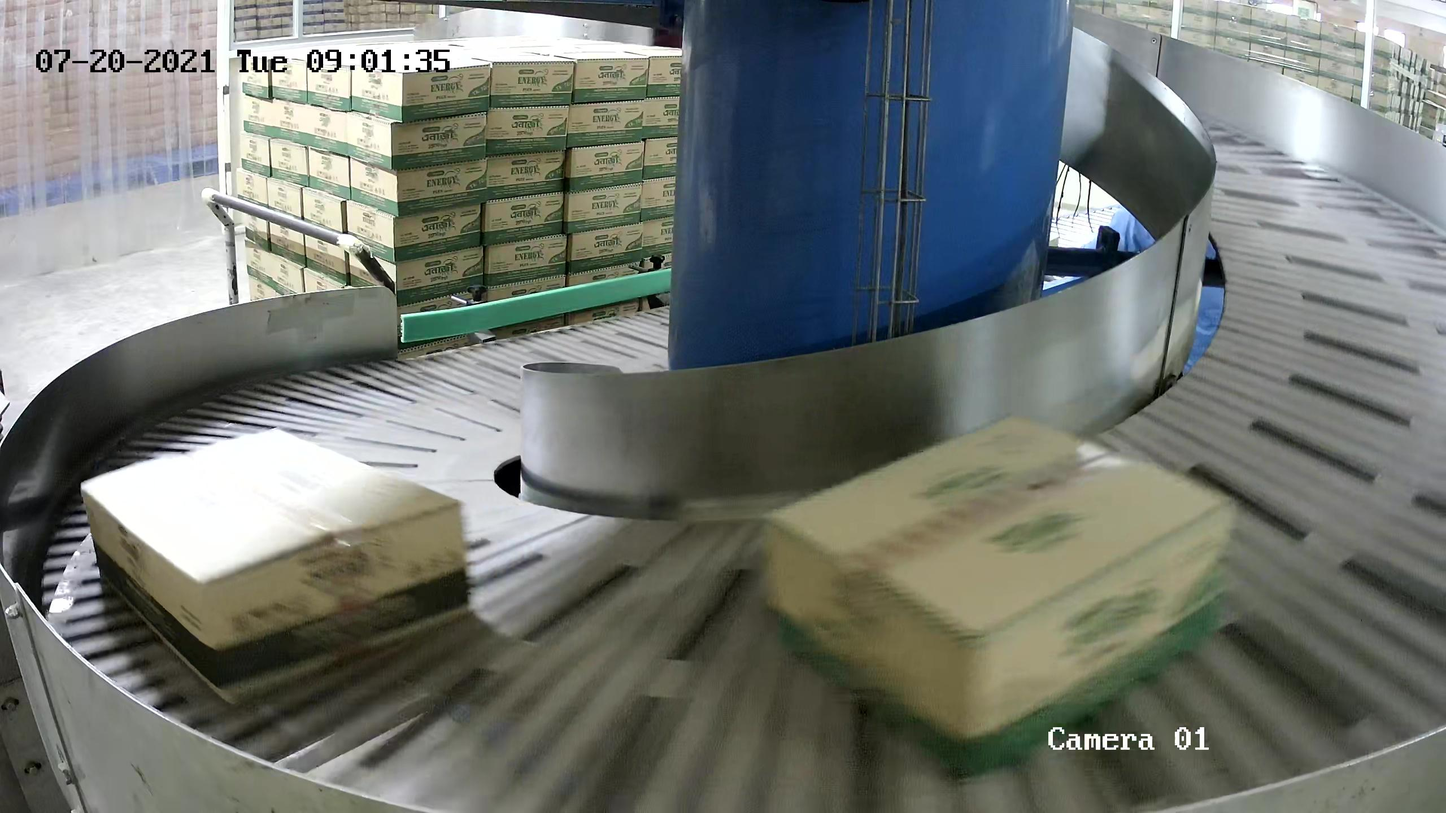Box: (757, 411, 1238, 782), (79, 423, 474, 706)
